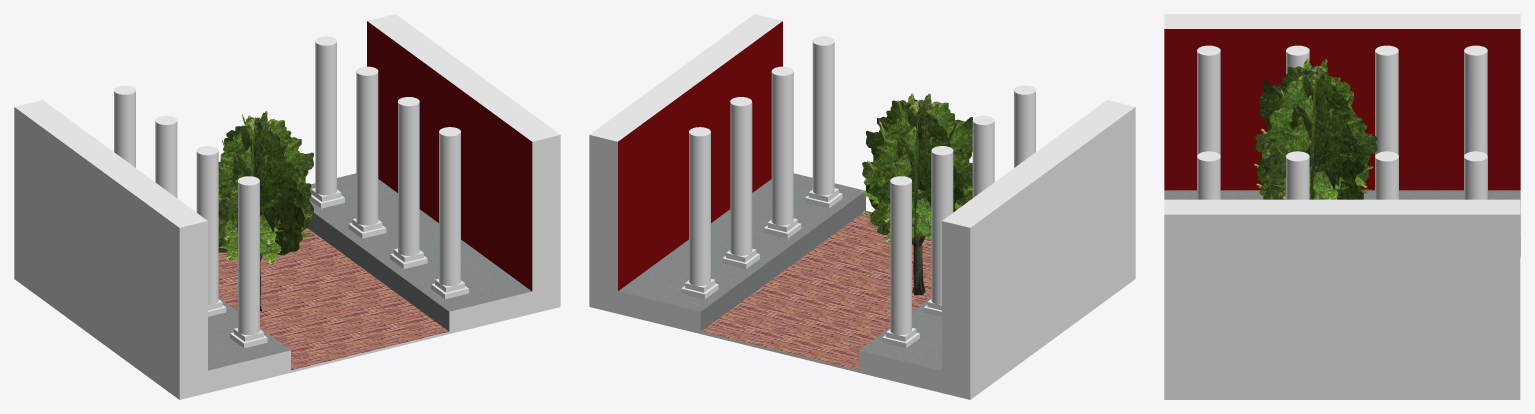
Rendered from CollegeRun_treeLeft.dae.
3 renders of one model, left to right at view 1: azimuth 30°, elevation 25°; view 2: azimuth 150°, elevation 25°; view 3: azimuth 270°, elevation 25°, orthographic. The views are drawn at different scales.
Visible parts, largest first — view 1: SketchUp (×13), boomkroon (×4); view 2: SketchUp (×13), boomkroon (×4), Tree_1; view 3: SketchUp (×11), boomkroon (×10).
Part boxes in pixels (x1,y1,x2,y2): SketchUp (×13): [14, 14, 560, 399]; boomkroon (×4): [218, 117, 313, 255]; SketchUp (×13): [589, 14, 1135, 399]; boomkroon (×4): [863, 99, 972, 235]; Tree_1: [912, 236, 925, 295]; SketchUp (×11): [1164, 14, 1520, 399]; boomkroon (×10): [1257, 65, 1377, 199].
Size of the model in its own units: 480 by 360 by 237.
